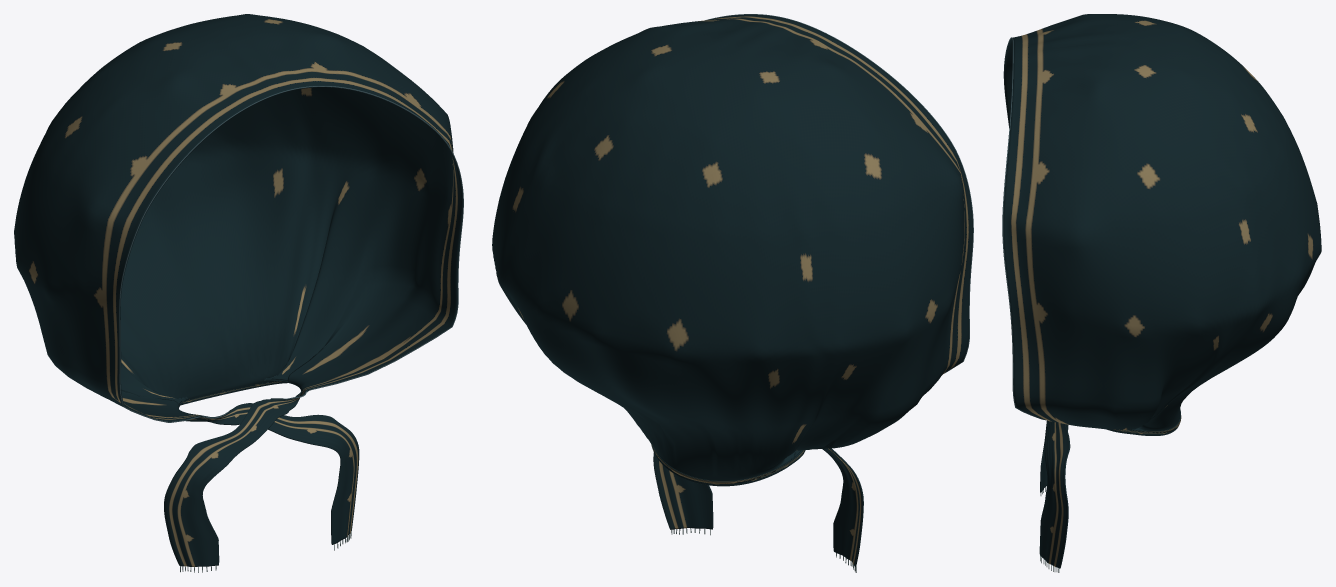
Rendered from Masculine-locs-jersey-pashmina249-headgear.glb.
3 renders of one model, left to right at view 1: azimuth 30°, elevation 25°; view 2: azimuth 150°, elevation 25°; view 3: azimuth 270°, elevation 25°, orthographic. The views are drawn at different scales.
Parts seen in each view (by area): view 1: 226 headgear / Headwear / continuous woven pashmina239, 226 headgear / Headwear / face edge239; view 2: 226 headgear / Headwear / continuous woven pashmina239, 226 headgear / Headwear / face edge239; view 3: 226 headgear / Headwear / continuous woven pashmina239, 226 headgear / Headwear / face edge239.
Boxes of the visible parts, x1,y1,x2,y2 form: 226 headgear / Headwear / continuous woven pashmina239: (14, 14, 462, 566); 226 headgear / Headwear / face edge239: (119, 86, 463, 422); 226 headgear / Headwear / continuous woven pashmina239: (492, 14, 972, 566); 226 headgear / Headwear / face edge239: (705, 14, 973, 373); 226 headgear / Headwear / continuous woven pashmina239: (1003, 14, 1321, 568); 226 headgear / Headwear / face edge239: (1002, 37, 1045, 420).
Size of the model in its own units: 1.15 by 1.4 by 0.8232.
3 materials, 1 textured.
